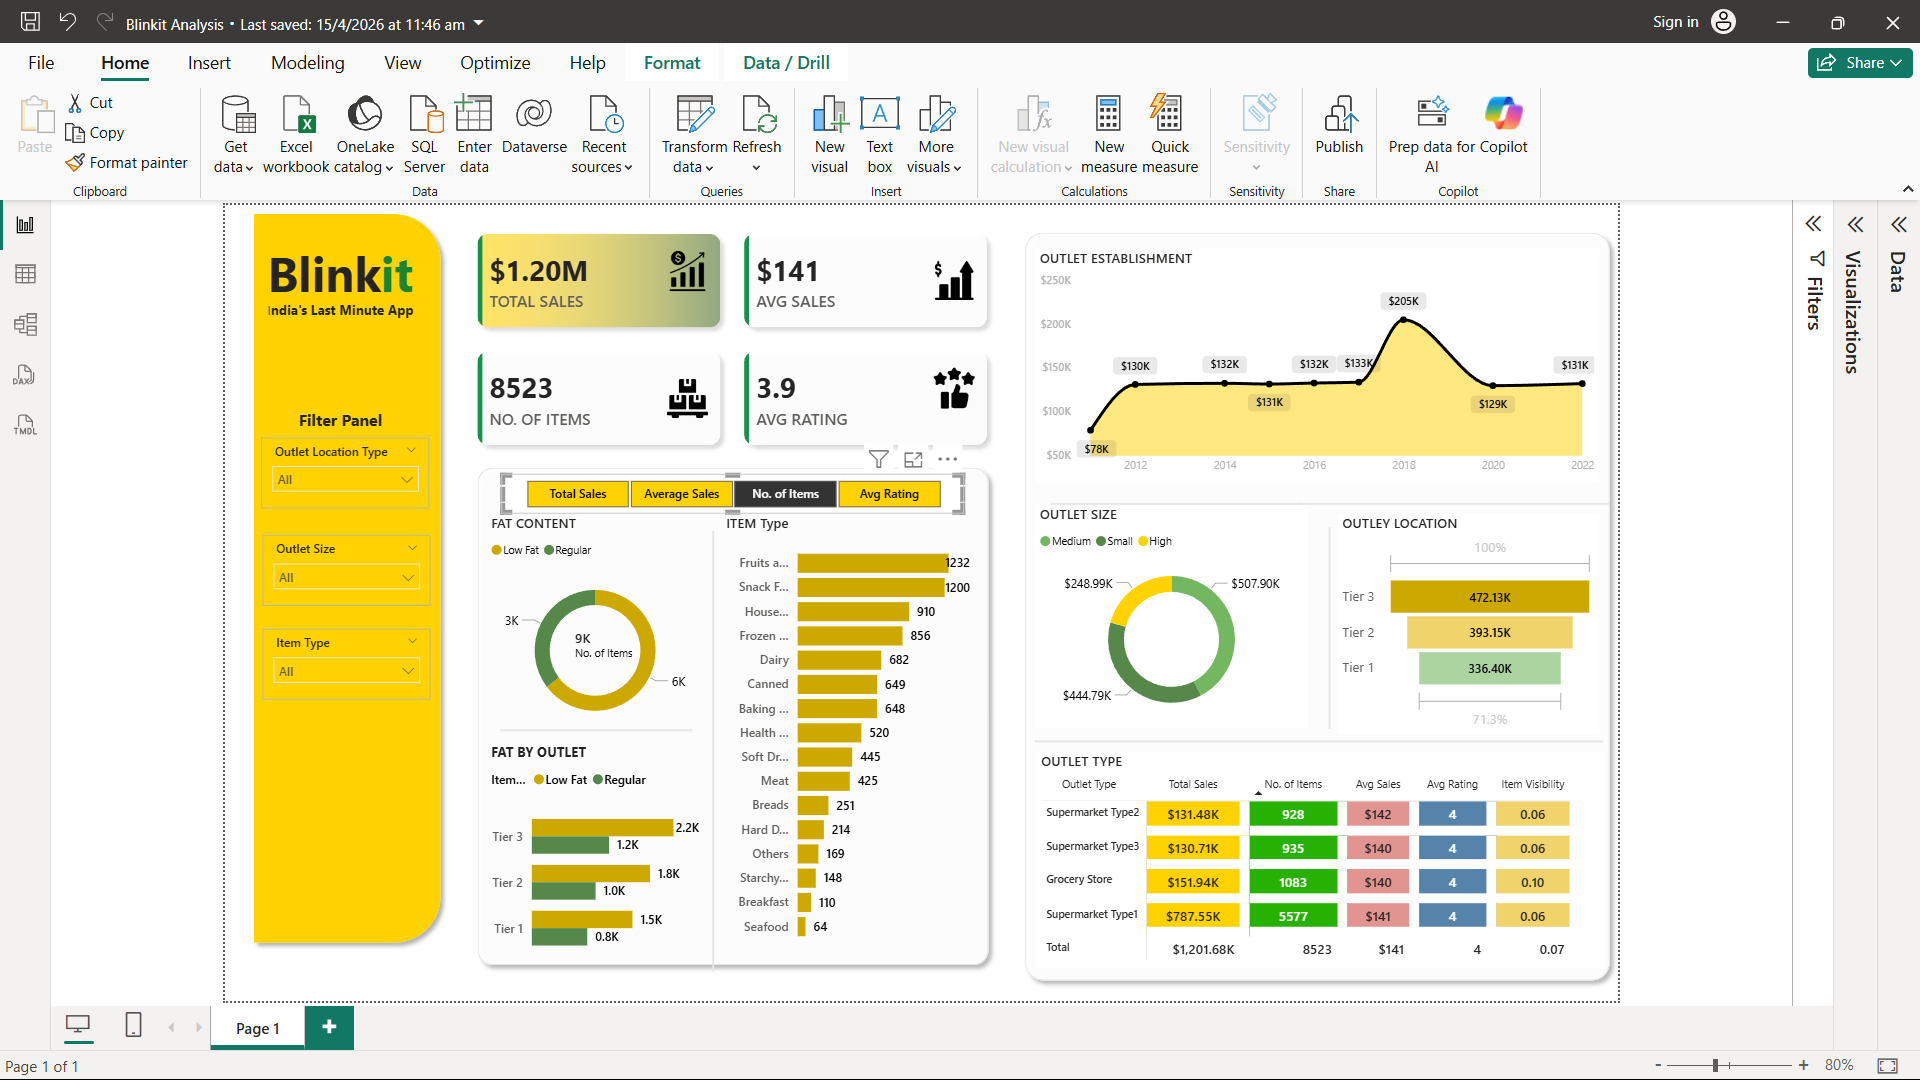

This screenshot's page, from the dashboard's own definition file:
{"tool":"powerbi","page":{"name":"Page 1","canvas":[1400,800],"ordinal":0},"visuals":[{"type":"shape","box":[19.5,0,205.6,750.4],"z":0},{"type":"textbox","box":[37.5,30,169.6,78],"z":1000},{"type":"textbox","box":[37.5,91.6,169.6,30],"z":2000},{"type":"cardVisual","fields":{"Data":["BlinkIT Grocery Data.Total Sales","BlinkIT Grocery Data.Average Sales","BlinkIT Grocery Data.No. of Items","BlinkIT Grocery Data.Avg Rating"]},"box":[225.1,0,570.3,270.2],"z":3000},{"type":"shape","box":[244.6,255.1,531.3,517.8],"z":4000},{"type":"donutChart","title":"FAT CONTENT","fields":{"Y":["BlinkIT Grocery Data.Total Sales"],"Category":["BlinkIT Grocery Data.Item Fat Content"]},"box":[262.7,310.7,219.1,229.6],"z":5000},{"type":"slicer","fields":{"Values":["Metrics.Metrics"]},"box":[277.7,270.2,465.3,40.5],"z":6000},{"type":"cardVisual","fields":{"Data":["BlinkIT Grocery Data.Total Sales"]},"box":[322.7,400.7,120.1,81],"z":7000},{"type":"clusteredBarChart","title":"FAT BY OUTLET","fields":{"Y":["BlinkIT Grocery Data.Total Sales"],"Category":["BlinkIT Grocery Data.Outlet Location Type"],"Series":["BlinkIT Grocery Data.Item Fat Content"]},"box":[262.7,540.3,219.1,229.6],"z":8000},{"type":"shape","box":[276,515.1,193.3,25.4],"z":9000},{"type":"shape","box":[1072.1,290,16.5,225.1],"z":10000},{"type":"barChart","title":"ITEM Type","fields":{"Y":["BlinkIT Grocery Data.Total Sales"],"Category":["BlinkIT Grocery Data.Item Type"]},"box":[498.3,310.7,255.1,439.8],"z":11000},{"type":"shape","box":[794.9,19.1,605.4,769.4],"z":12000},{"type":"lineChart","title":"OUTLET ESTABLISHMENT","fields":{"Y":["BlinkIT Grocery Data.Total Sales"],"Category":["BlinkIT Grocery Data.Outlet Establishment Year"]},"box":[814,44.5,567.2,235.3],"z":13000},{"type":"shape","box":[814,527.8,571,22.9],"z":14000},{"type":"donutChart","title":"OUTLET SIZE","fields":{"Y":["BlinkIT Grocery Data.Total Sales"],"Category":["BlinkIT Grocery Data.Outlet Size"]},"box":[814,301.4,274.7,225.1],"z":15000},{"type":"shape","box":[1100.1,324.3,19.1,202.2],"z":16000},{"type":"shape","box":[482,328.1,16.5,442.6],"z":17000},{"type":"funnel","title":"OUTLEY LOCATION","fields":{"Y":["Sum(BlinkIT Grocery Data.Sales)"],"Category":["BlinkIT Grocery Data.Outlet Location Type"]},"box":[1117.9,310.3,263.3,221.3],"z":18000},{"type":"shape","box":[830.3,288.5,560.9,22.9],"z":19000},{"type":"pivotTable","title":"OUTLET TYPE","fields":{"Values":["BlinkIT Grocery Data.Total Sales","BlinkIT Grocery Data.No. of Items","BlinkIT Grocery Data.Average Sales","BlinkIT Grocery Data.Avg Rating","Avg(BlinkIT Grocery Data.Item Visibility)"],"Rows":["BlinkIT Grocery Data.Outlet Type"]},"box":[815.2,549.4,571,218.8],"z":20000},{"type":"slicer","fields":{"Values":["BlinkIT Grocery Data.Outlet Location Type"]},"box":[36.9,234,169.2,71.2],"z":21000},{"type":"slicer","fields":{"Values":["BlinkIT Grocery Data.Outlet Size"]},"box":[38.2,331.9,169.2,71.2],"z":22000},{"type":"slicer","fields":{"Values":["BlinkIT Grocery Data.Item Type"]},"box":[38.2,426.1,169.2,71.2],"z":23000},{"type":"textbox","box":[68.7,199.7,106.8,34.3],"z":24000}]}

Visuals, with their boxes on the page's 1400x800 design canvas (x1, y1, x2, y2). These are canvas units, not pixel positions in the 1920x1080 screenshot, which may show the page scaled, cropped or inside an application window:
shape: <bbox>20, 0, 225, 750</bbox>
textbox: <bbox>38, 30, 207, 108</bbox>
textbox: <bbox>38, 92, 207, 122</bbox>
cardVisual - BlinkIT Grocery Data.Total Sales x BlinkIT Grocery Data.Average Sales: <bbox>225, 0, 795, 270</bbox>
shape: <bbox>245, 255, 776, 773</bbox>
"FAT CONTENT" donutChart: <bbox>263, 311, 482, 540</bbox>
slicer - Metrics.Metrics: <bbox>278, 270, 743, 311</bbox>
cardVisual - BlinkIT Grocery Data.Total Sales: <bbox>323, 401, 443, 482</bbox>
"FAT BY OUTLET" clusteredBarChart: <bbox>263, 540, 482, 770</bbox>
shape: <bbox>276, 515, 469, 540</bbox>
shape: <bbox>1072, 290, 1089, 515</bbox>
"ITEM Type" barChart: <bbox>498, 311, 753, 750</bbox>
shape: <bbox>795, 19, 1400, 788</bbox>
"OUTLET ESTABLISHMENT" lineChart: <bbox>814, 44, 1381, 280</bbox>
shape: <bbox>814, 528, 1385, 551</bbox>
"OUTLET SIZE" donutChart: <bbox>814, 301, 1089, 526</bbox>
shape: <bbox>1100, 324, 1119, 526</bbox>
shape: <bbox>482, 328, 498, 771</bbox>
"OUTLEY LOCATION" funnel: <bbox>1118, 310, 1381, 532</bbox>
shape: <bbox>830, 288, 1391, 311</bbox>
"OUTLET TYPE" pivotTable: <bbox>815, 549, 1386, 768</bbox>
slicer - BlinkIT Grocery Data.Outlet Location Type: <bbox>37, 234, 206, 305</bbox>
slicer - BlinkIT Grocery Data.Outlet Size: <bbox>38, 332, 207, 403</bbox>
slicer - BlinkIT Grocery Data.Item Type: <bbox>38, 426, 207, 497</bbox>
textbox: <bbox>69, 200, 176, 234</bbox>
